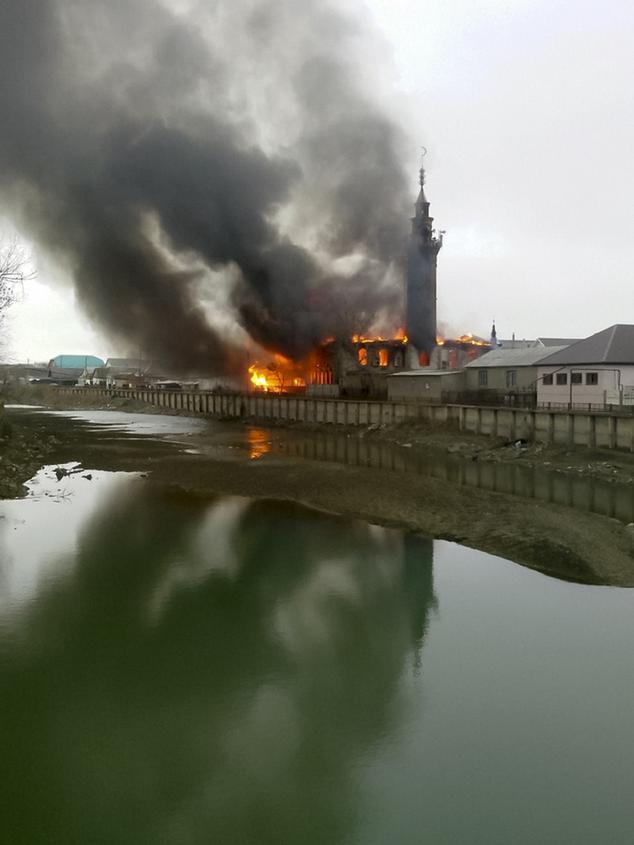Fire: (342, 302, 496, 360), (232, 345, 324, 415)
